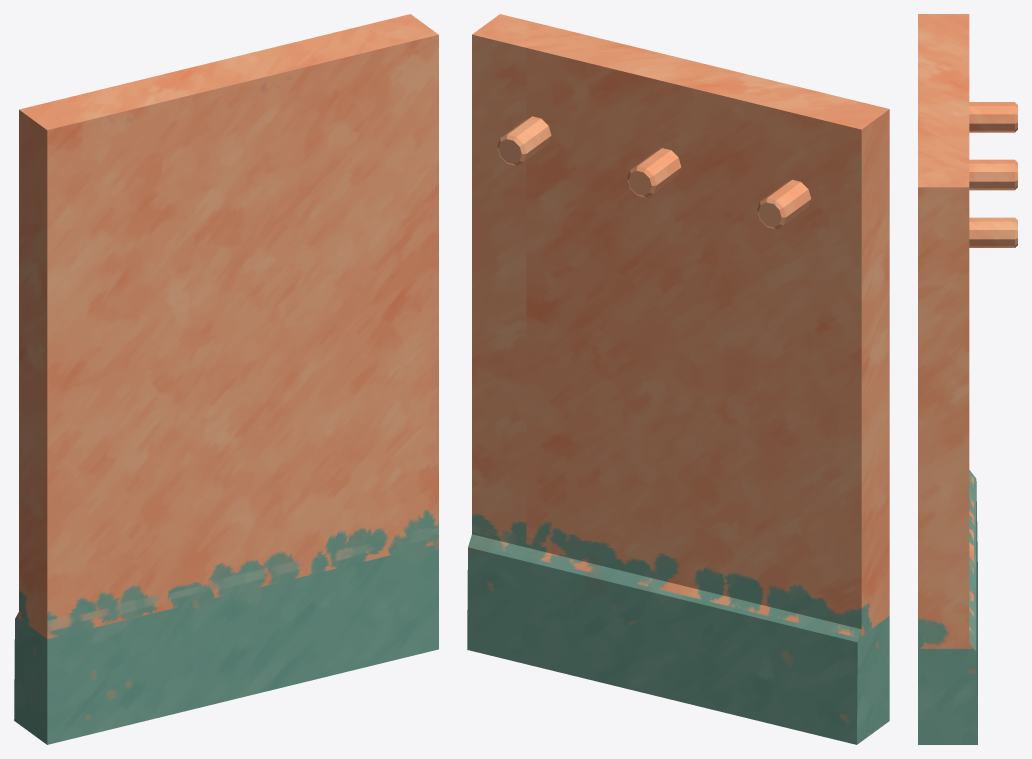
The model's file is wall_plain.fbx.
3 renders of one model, left to right at view 1: azimuth 30°, elevation 25°; view 2: azimuth 150°, elevation 25°; view 3: azimuth 270°, elevation 25°, orthographic. The views are drawn at different scales.
Visible parts, largest first — view 1: wall_plain; view 2: wall_plain; view 3: wall_plain.
Boxes of the visible parts, bbox=[...] form: wall_plain: bbox=[14, 14, 438, 744]; wall_plain: bbox=[467, 14, 889, 744]; wall_plain: bbox=[918, 14, 1017, 744].
Size of the model in its own units: 8 by 12 by 1.95.
Materials: 1 (1 with a texture image).
